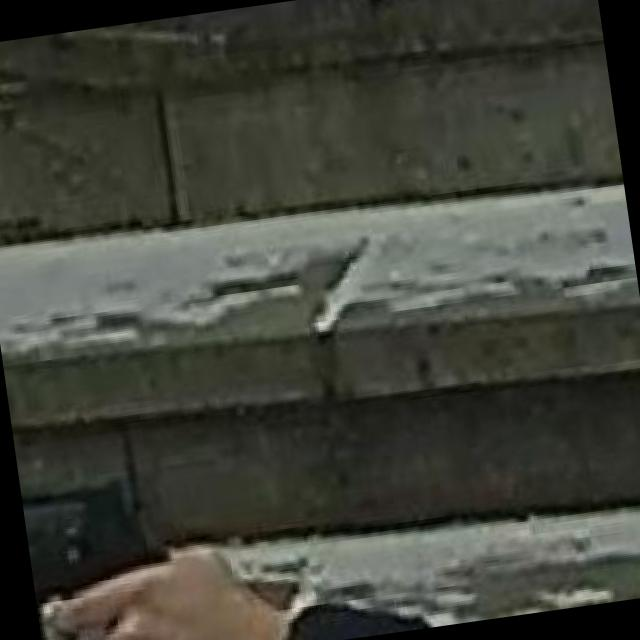Guns: (10, 379, 293, 640)
